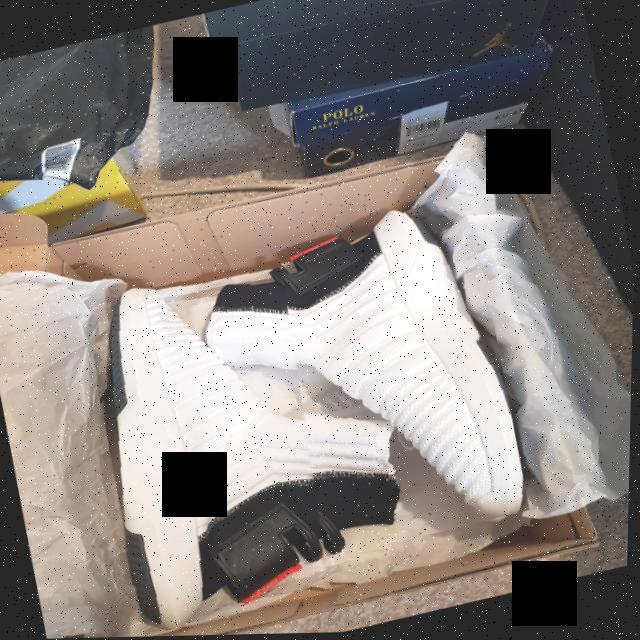shoe: (199, 193, 537, 576), (75, 252, 352, 637)
